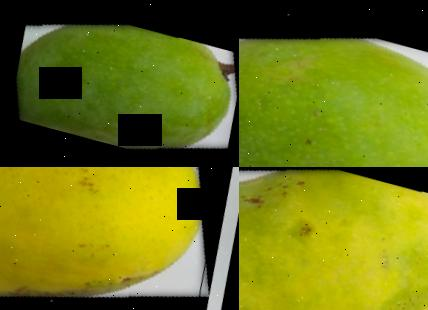PartiallyRipe: (0, 167, 239, 310), (239, 167, 428, 310)
Unripe: (0, 0, 239, 167), (239, 0, 428, 167)
